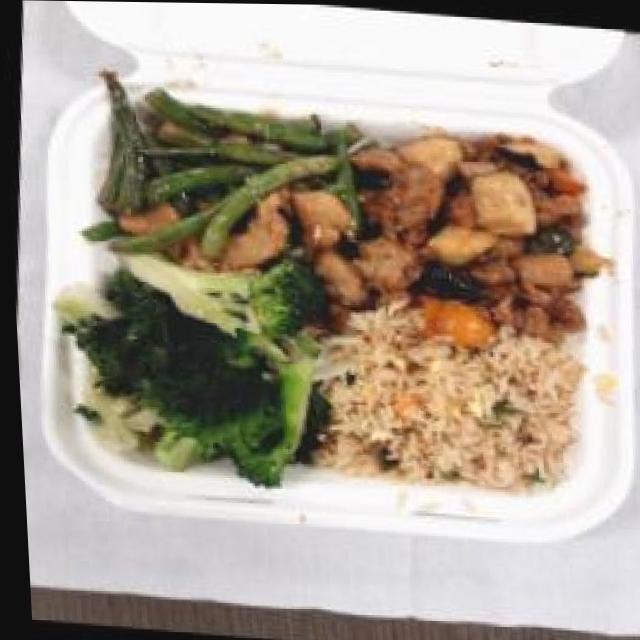Fried Rice: (300, 305, 588, 507)
Kung Pao Chicken: (321, 114, 619, 350)
String Bean Chicken Breast: (73, 79, 372, 295)
Super Greens: (46, 258, 335, 485)
